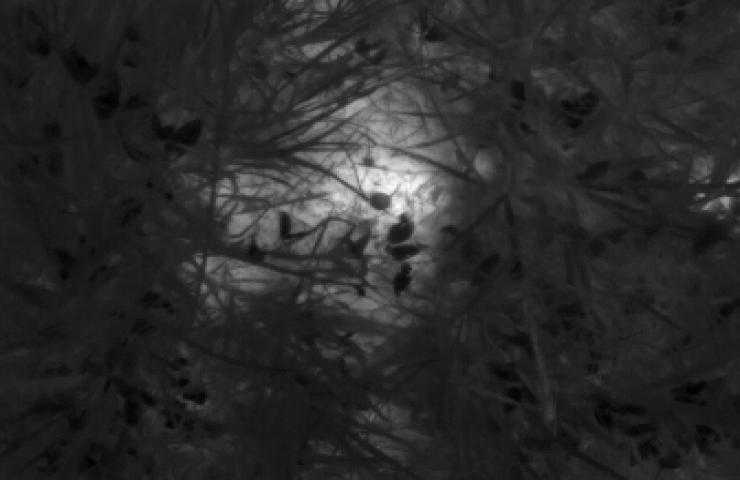landmines: (186, 10, 492, 343)
